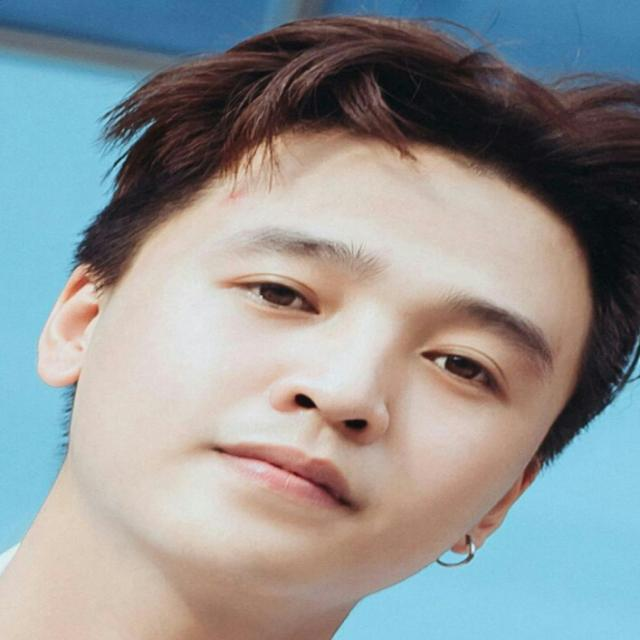front: (152, 192, 518, 561)
